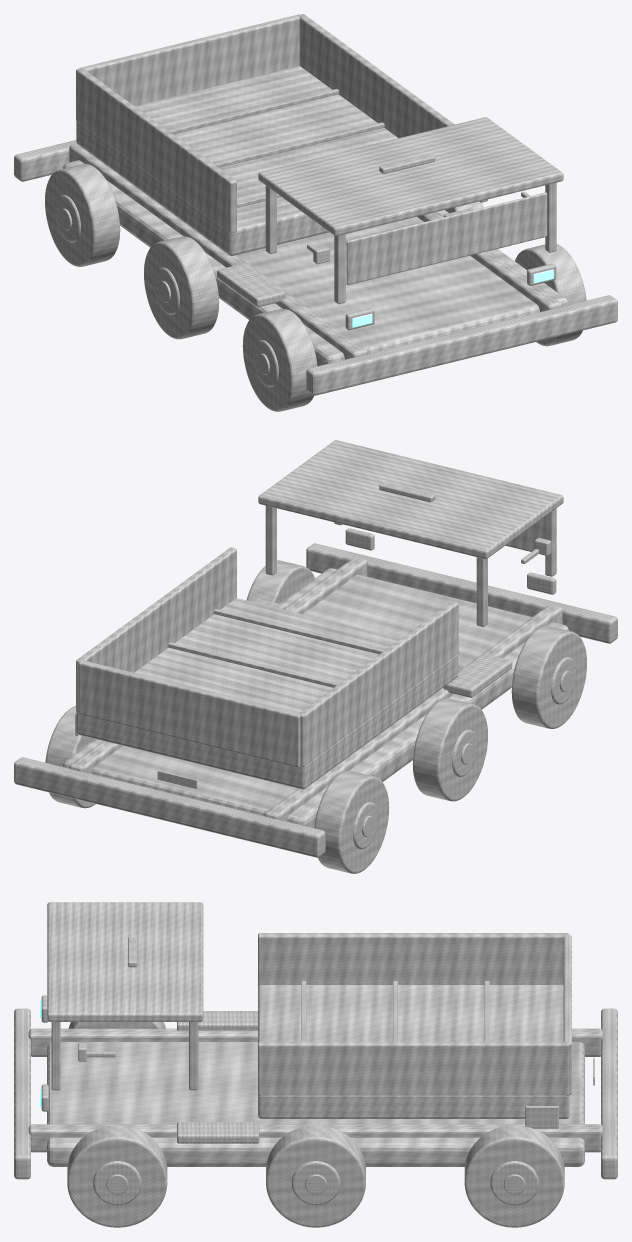
Rendered from truck_variant_c.glb.
3 views of the same model, one above another, from view 1: azimuth 30°, elevation 25°; view 2: azimuth 150°, elevation 25°; view 3: azimuth 270°, elevation 25° (orthographic).
Parts seen in each view (by area): view 1: Modular cargo platform, Heavy ladder frame.002, Cab roof frame, Rear access gate, Modular side rail, Front bumper.002, Front windshield, Modular side rail.001, Heavy all-terrain tire.016, Heavy all-terrain tire.014, Heavy all-terrain tire.012, Longitudinal frame rail.004 (+12 smaller); view 2: Modular cargo platform, Cab roof frame, Heavy ladder frame.002, Rear access gate, Rear bumper.002, Modular side rail, Modular side rail.001, Front bumper.002, Heavy all-terrain tire.012, Heavy all-terrain tire.014, Heavy all-terrain tire.016, Longitudinal frame rail.004 (+13 smaller); view 3: Heavy ladder frame.002, Modular cargo platform, Cab roof frame, Modular side rail.001, Modular side rail, Heavy all-terrain tire.013, Heavy all-terrain tire.017, Heavy all-terrain tire.015, Longitudinal frame rail.005, Longitudinal frame rail.004, Front bumper.002, Rear bumper.002 (+10 smaller).
Part boxes in pixels (x1,y1,x2,y2): Modular cargo platform: (76, 66, 398, 255); Heavy ladder frame.002: (63, 160, 568, 365); Cab roof frame: (258, 117, 563, 236); Rear access gate: (79, 14, 299, 105); Modular side rail: (76, 68, 236, 233); Front bumper.002: (306, 295, 617, 395); Front windshield: (346, 192, 547, 285); Modular side rail.001: (298, 14, 454, 137); Heavy all-terrain tire.016: (45, 164, 120, 266); Heavy all-terrain tire.014: (144, 236, 219, 339); Heavy all-terrain tire.012: (242, 308, 317, 411); Longitudinal frame rail.004: (69, 143, 367, 359); Modular cargo platform: (76, 598, 458, 789); Cab roof frame: (258, 440, 563, 559); Heavy ladder frame.002: (63, 568, 568, 827); Rear access gate: (78, 660, 300, 767); Rear bumper.002: (14, 757, 325, 857); Modular side rail: (298, 601, 458, 766); Modular side rail.001: (76, 547, 236, 711); Front bumper.002: (306, 543, 617, 643); Heavy all-terrain tire.012: (511, 626, 586, 728); Heavy all-terrain tire.014: (412, 698, 487, 801); Heavy all-terrain tire.016: (314, 770, 389, 873); Longitudinal frame rail.004: (264, 604, 562, 821); Heavy ladder frame.002: (47, 1042, 584, 1166); Modular cargo platform: (258, 985, 569, 1118); Cab roof frame: (47, 902, 203, 1021); Modular side rail.001: (258, 1041, 569, 1095); Modular side rail: (258, 933, 569, 986); Heavy all-terrain tire.013: (67, 1125, 167, 1227); Heavy all-terrain tire.017: (464, 1125, 564, 1227); Heavy all-terrain tire.015: (266, 1125, 365, 1227); Longitudinal frame rail.005: (28, 1124, 603, 1152); Longitudinal frame rail.004: (28, 1028, 603, 1056); Front bumper.002: (14, 1008, 30, 1179); Rear bumper.002: (601, 1008, 617, 1179).
Size of what is drawn, in the model's own units: 5.8 by 3.73 by 9.88.
Materials: 8 (8 with a texture image).
